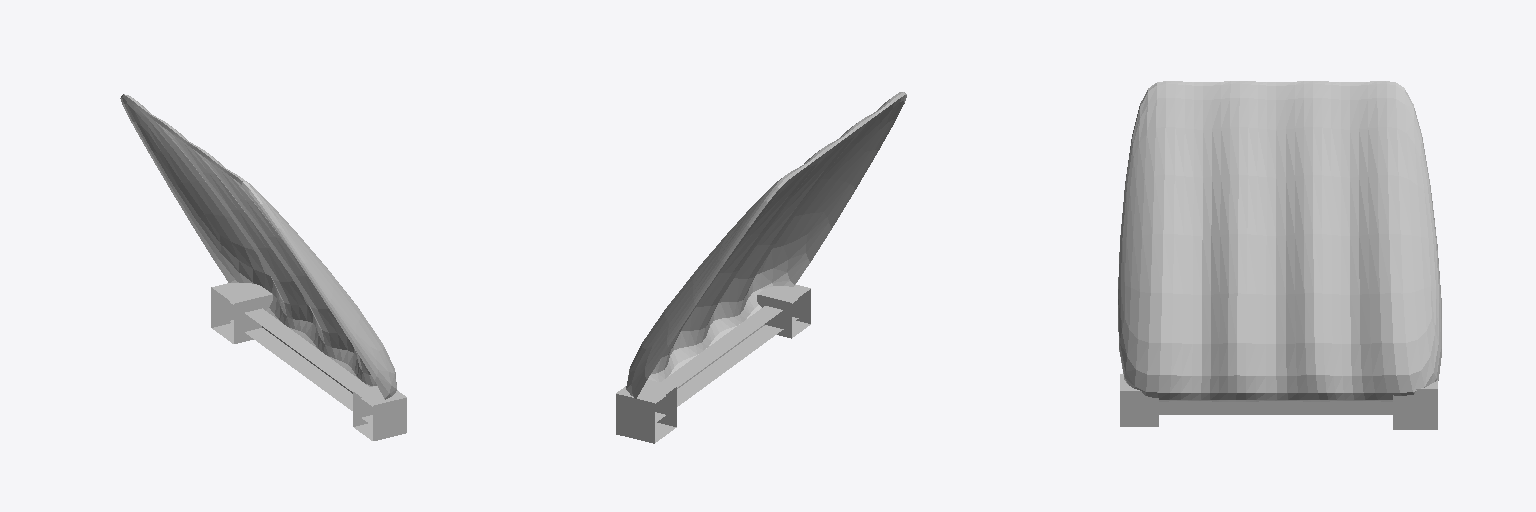
3 renders of one model, left to right at view 1: azimuth 30°, elevation 25°; view 2: azimuth 150°, elevation 25°; view 3: azimuth 270°, elevation 25°, orthographic.
Visible parts, largest first — view 1: RoofMain, StoneFrame; view 2: RoofMain, StoneFrame; view 3: RoofMain, StoneFrame.
Boxes of the visible parts, box(x1,y1,x2,y2) form: RoofMain: box(120, 94, 396, 399); StoneFrame: box(211, 283, 406, 440); RoofMain: box(626, 92, 906, 399); StoneFrame: box(616, 284, 810, 443); RoofMain: box(1118, 81, 1441, 401); StoneFrame: box(1120, 374, 1437, 429).
Size of the model in its own units: 9.97 by 17.29 by 18.4.